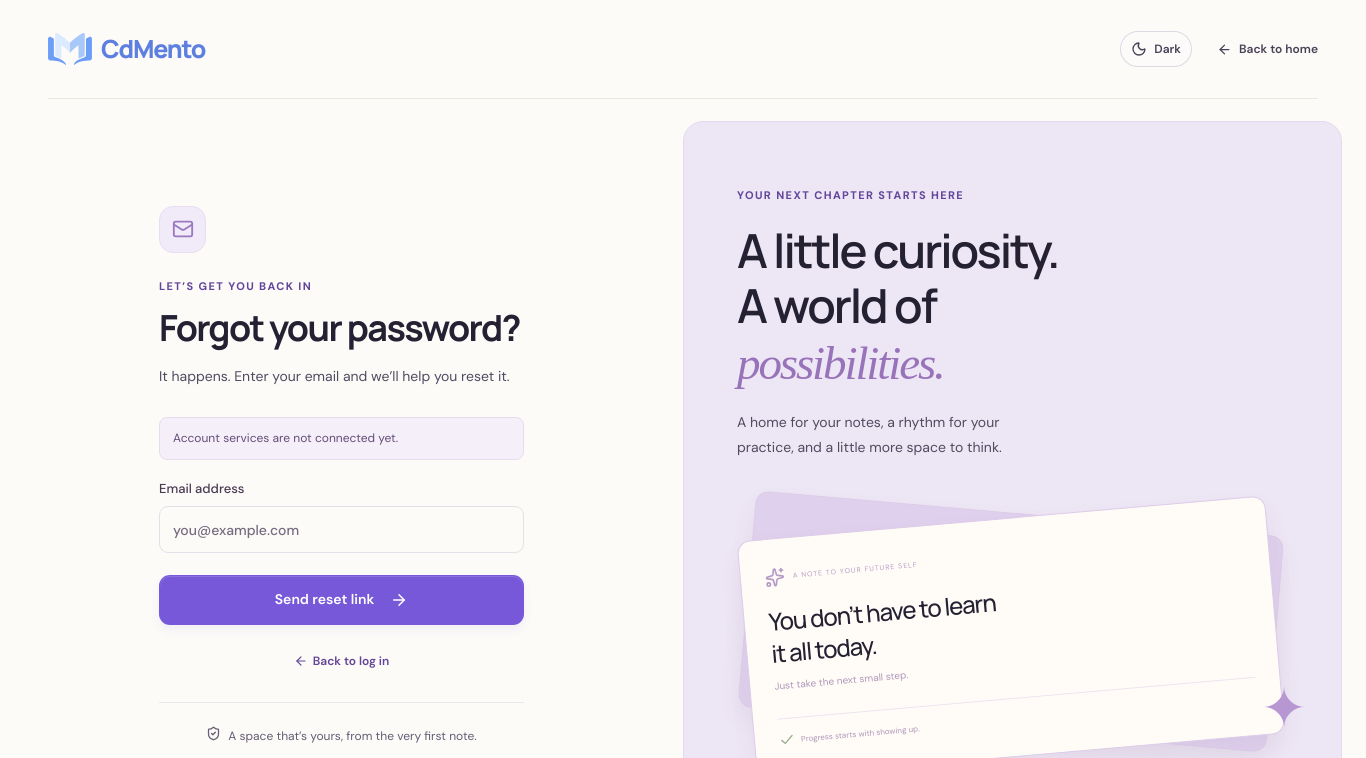
public site and authentication › does not claim a password reset was sent without account services
Type "learner@example.com" into the field labelled "Email address" at (342, 530), box [159, 506, 524, 553]
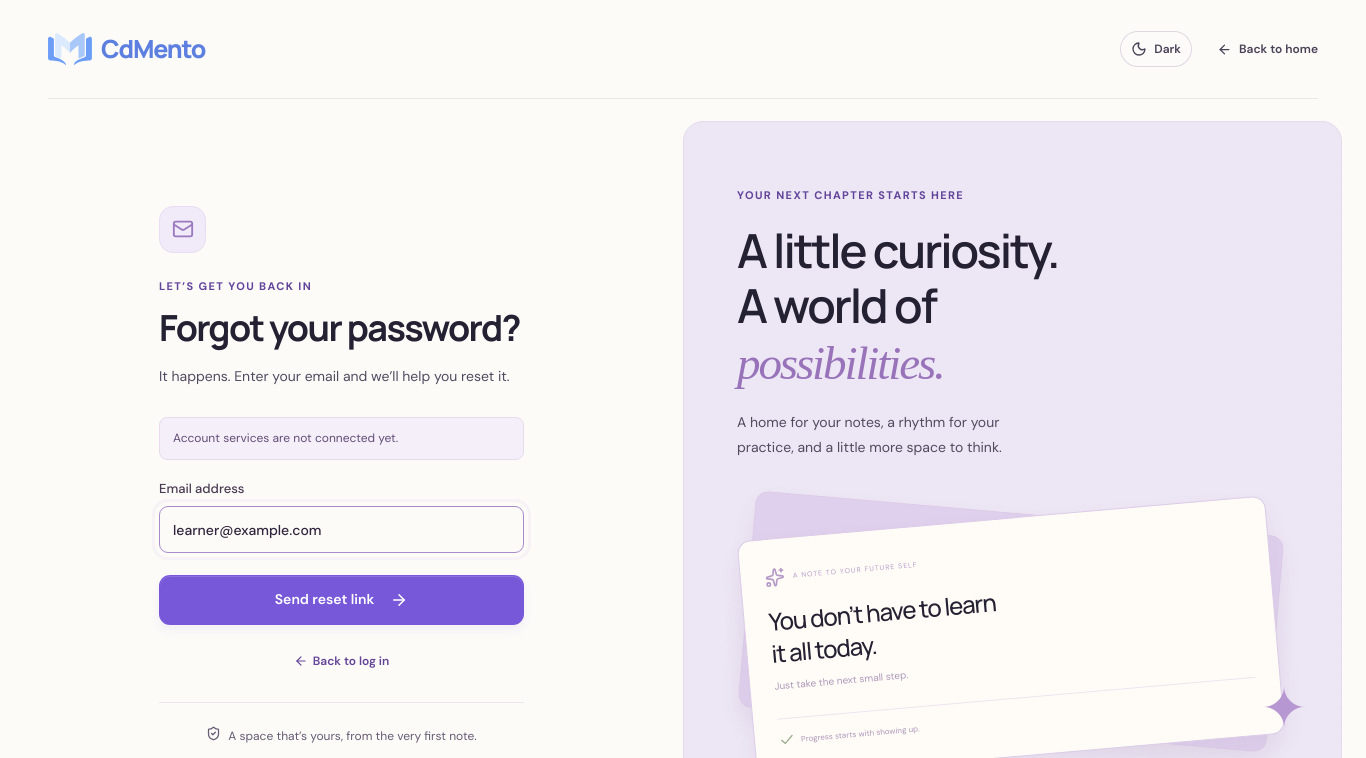
Click the button "Send reset link" at (342, 600), box [159, 575, 524, 625]
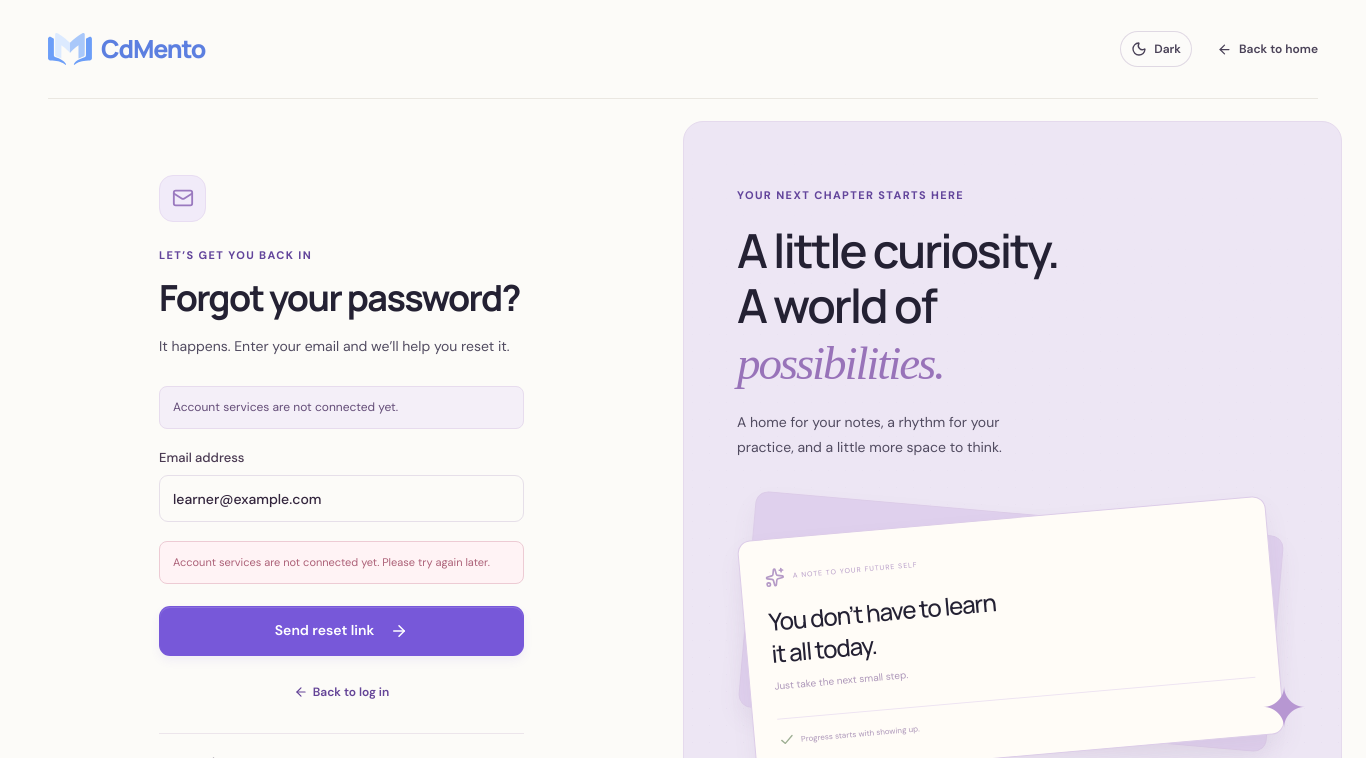
Expected: the message "Account services are not connected yet. Please try again later." is shown, [159, 541, 524, 584]
